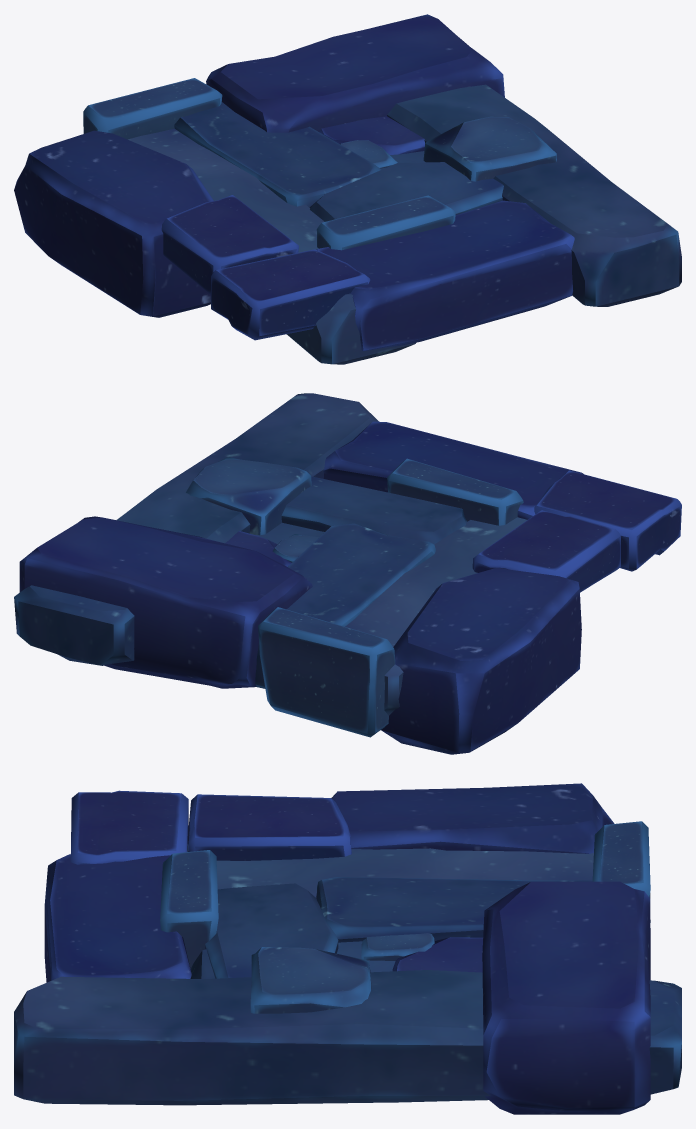
File: msh_stone Foothold.fbx
3 views of the same model, one above another, from view 1: azimuth 30°, elevation 25°; view 2: azimuth 150°, elevation 25°; view 3: azimuth 270°, elevation 25° (orthographic). The views are drawn at different scales.
Parts seen in each view (by area): view 1: Box031; view 2: Box031; view 3: Box031.
Part boxes in pixels (bbox=[...]): Box031: bbox=[14, 14, 681, 364]; Box031: bbox=[14, 393, 681, 754]; Box031: bbox=[14, 783, 681, 1114].
Size of the model in its own units: 367 by 105 by 399.
Materials: 1 (1 with a texture image).
